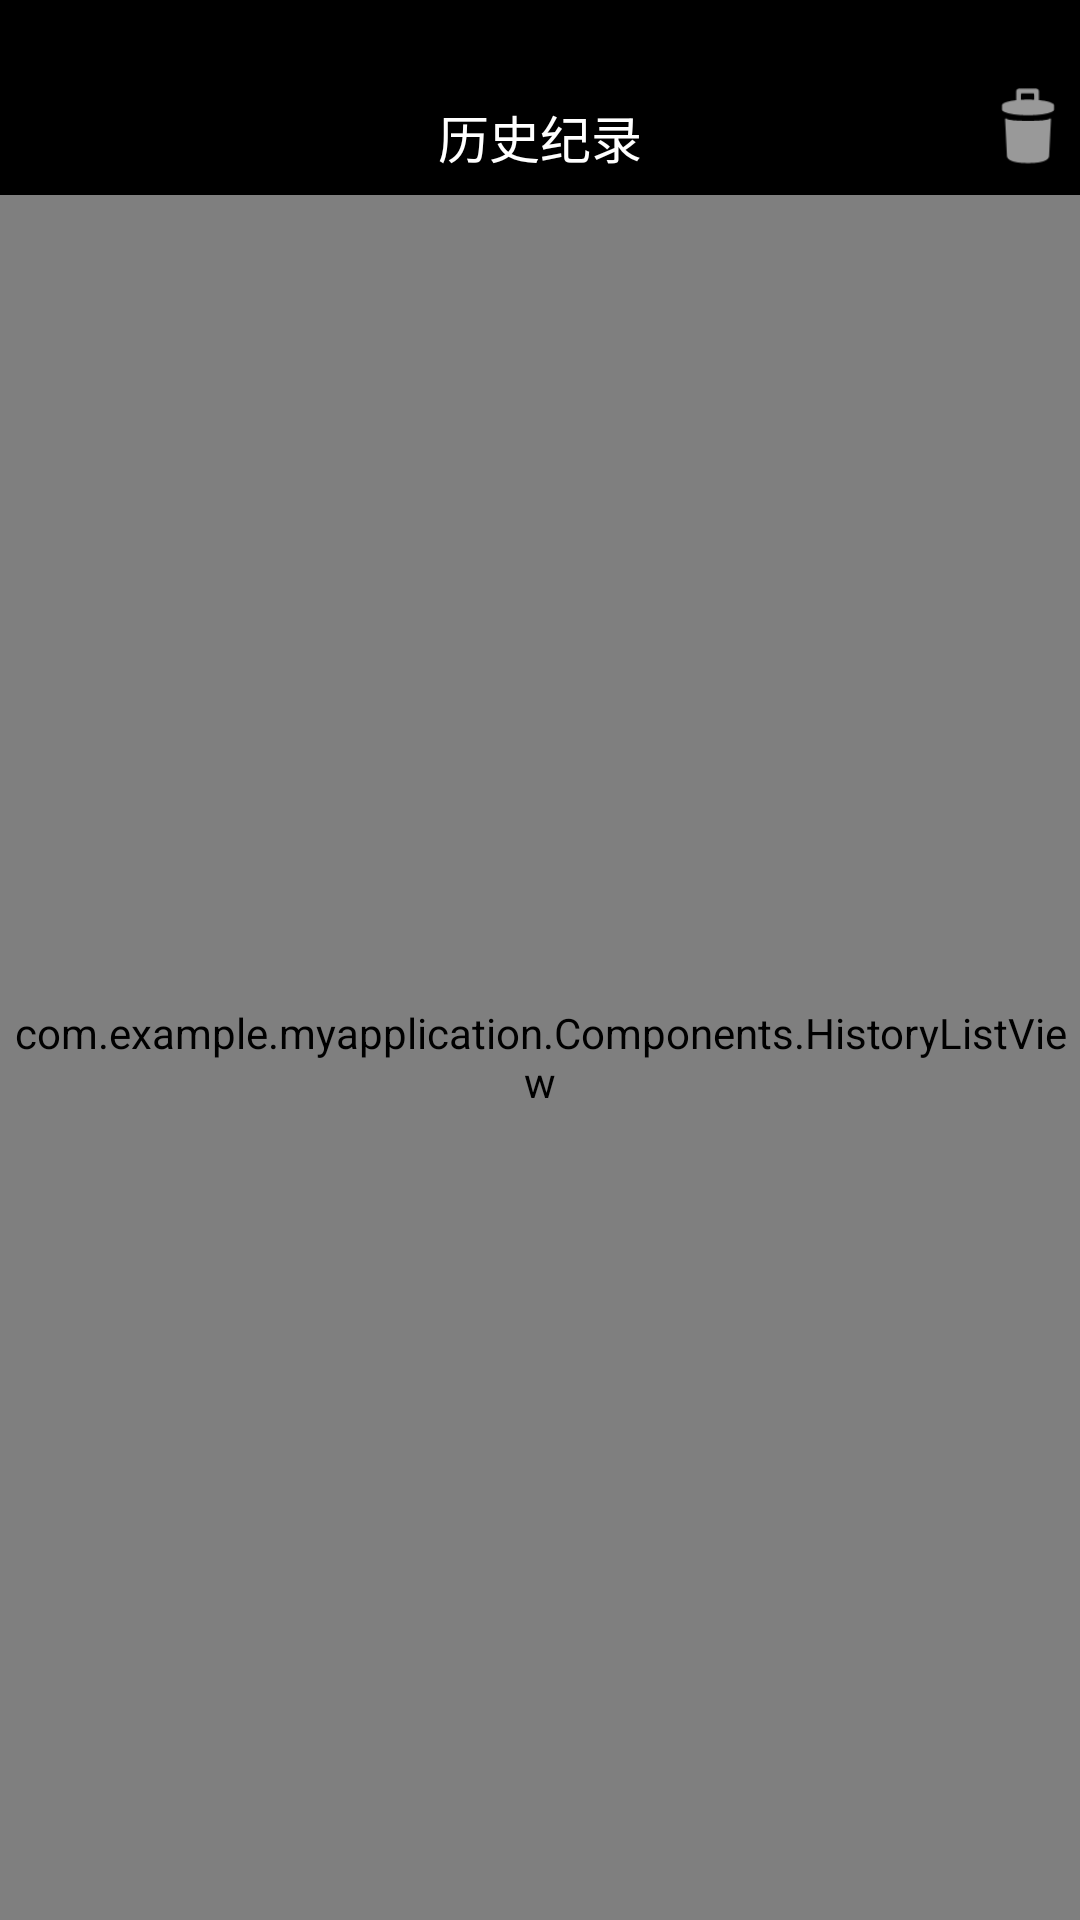

Screen size 1080 x 1920. Icon name, then its box in pixels as [x1,y1,x2,y2]:
delete: [1001,88,1055,164]
